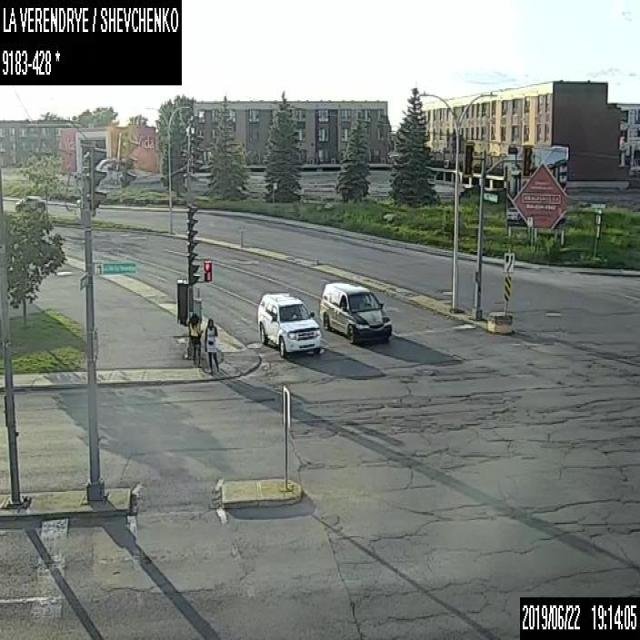pedestrian: (203, 318, 220, 376), (188, 310, 203, 366)
vehicle: (318, 280, 392, 344), (257, 290, 321, 356), (14, 192, 46, 211)
